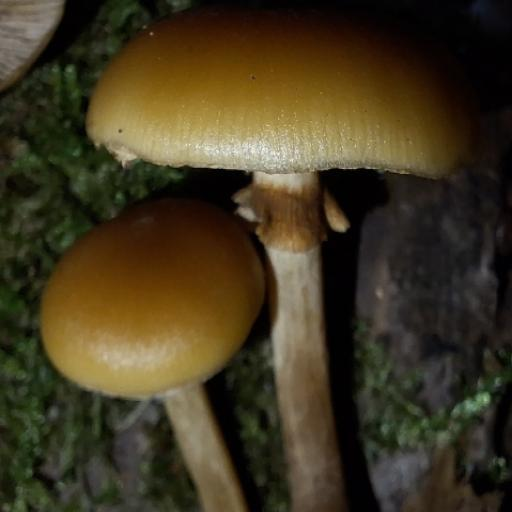mushroom: (38, 5, 465, 452)
